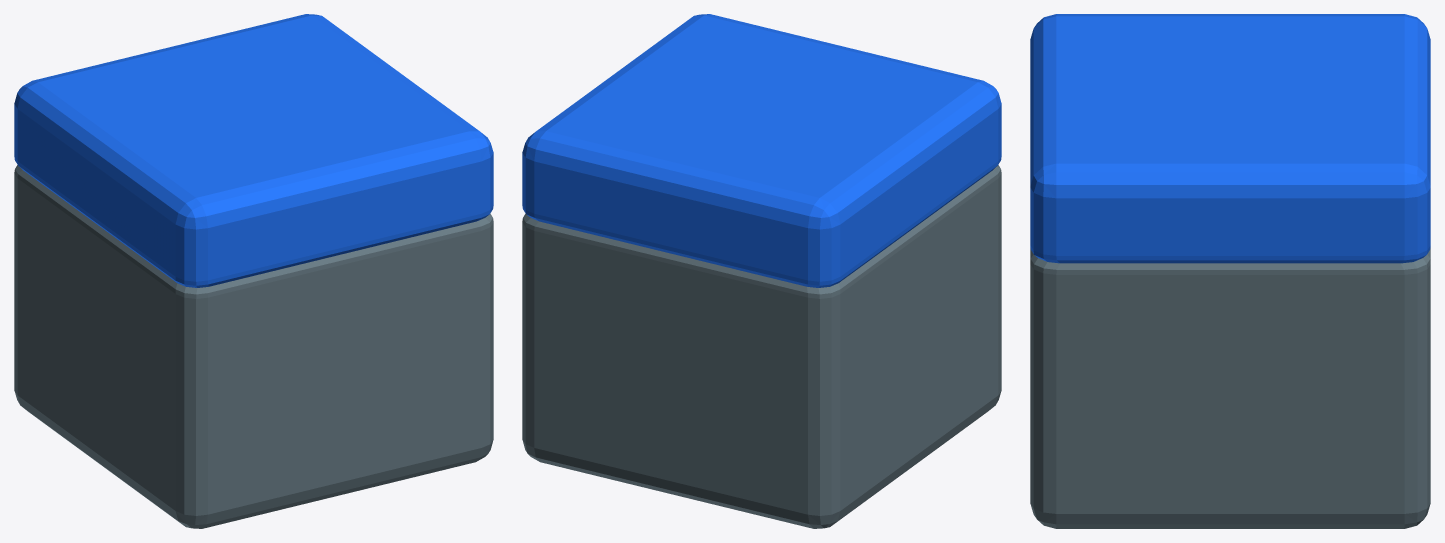
Rendered from tileHigh_teamBlue.obj.
3 renders of one model, left to right at view 1: azimuth 30°, elevation 25°; view 2: azimuth 150°, elevation 25°; view 3: azimuth 270°, elevation 25°, orthographic. The views are drawn at different scales.
Parts seen in each view (by area): view 1: tileHigh_teamBlue_Cube.034; view 2: tileHigh_teamBlue_Cube.034; view 3: tileHigh_teamBlue_Cube.034.
Boxes of the visible parts, left/top/right/bottom form: tileHigh_teamBlue_Cube.034: left=14, top=14, right=493, bottom=528; tileHigh_teamBlue_Cube.034: left=522, top=14, right=1001, bottom=528; tileHigh_teamBlue_Cube.034: left=1030, top=14, right=1430, bottom=528.
Size of the model in its own units: 2 by 2 by 2.
